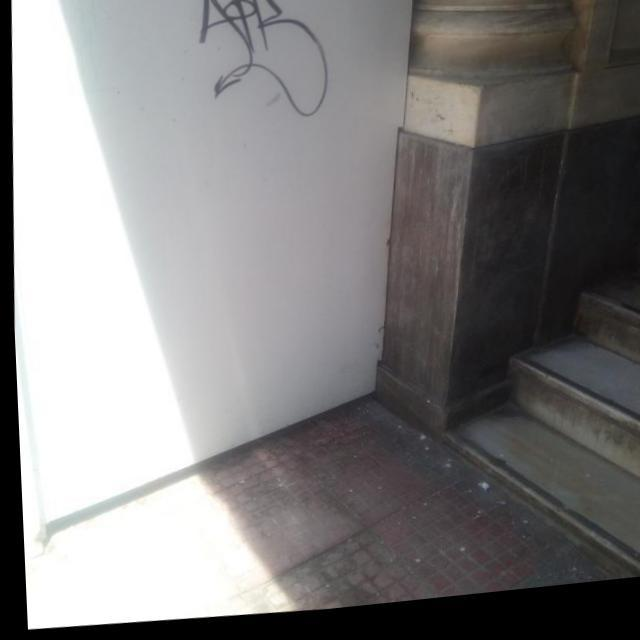-: (190, 0, 334, 134)
